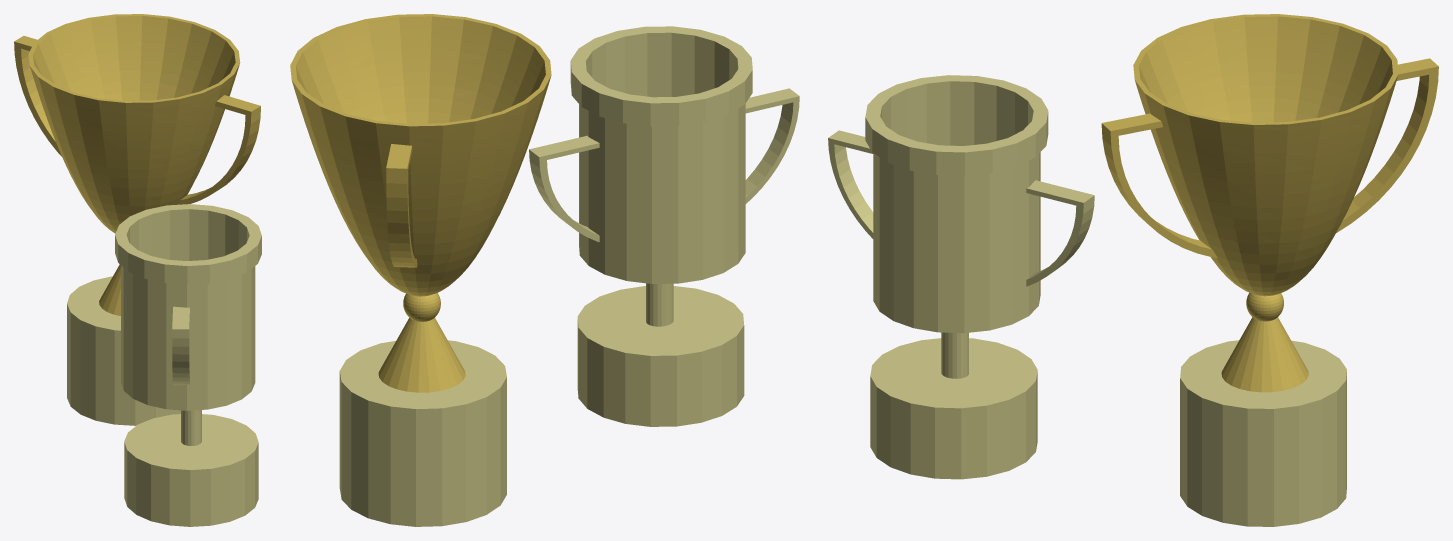
Rendered from trophies.glb.
The picture shows the model from 3 angles, left to right: view 1: azimuth 30°, elevation 25°; view 2: azimuth 150°, elevation 25°; view 3: azimuth 270°, elevation 25°; orthographic projection. The views are drawn at different scales.
Parts seen in each view (by area): view 1: Mesh_Mesh_head_geo.001_lambert2SG.001; view 2: Mesh_Mesh_head_geo.001_lambert2SG.001; view 3: Mesh_Mesh_head_geo.001_lambert2SG.001.
Part boxes in pixels (x1,y1,x2,y2): Mesh_Mesh_head_geo.001_lambert2SG.001: [14, 14, 261, 526]; Mesh_Mesh_head_geo.001_lambert2SG.001: [290, 14, 799, 526]; Mesh_Mesh_head_geo.001_lambert2SG.001: [828, 14, 1438, 526].
Bounding box in the file's own units: 9.1 × 13.13 × 17.2.
